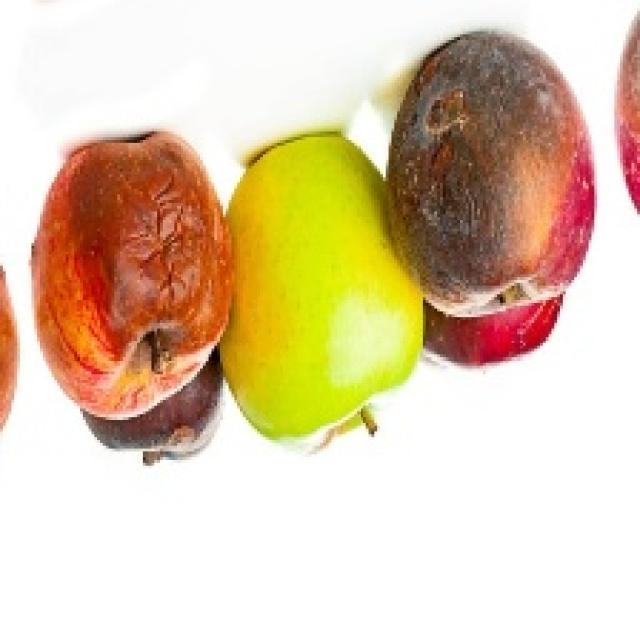rotten_apple: (399, 35, 595, 313), (40, 136, 229, 420)
